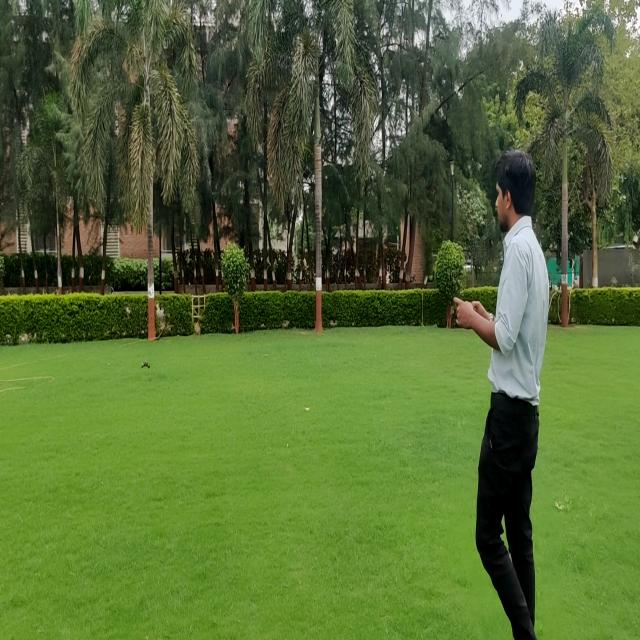drone: (136, 354, 153, 372)
